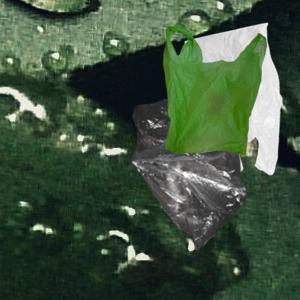plastic_bag: (159, 22, 269, 161)
